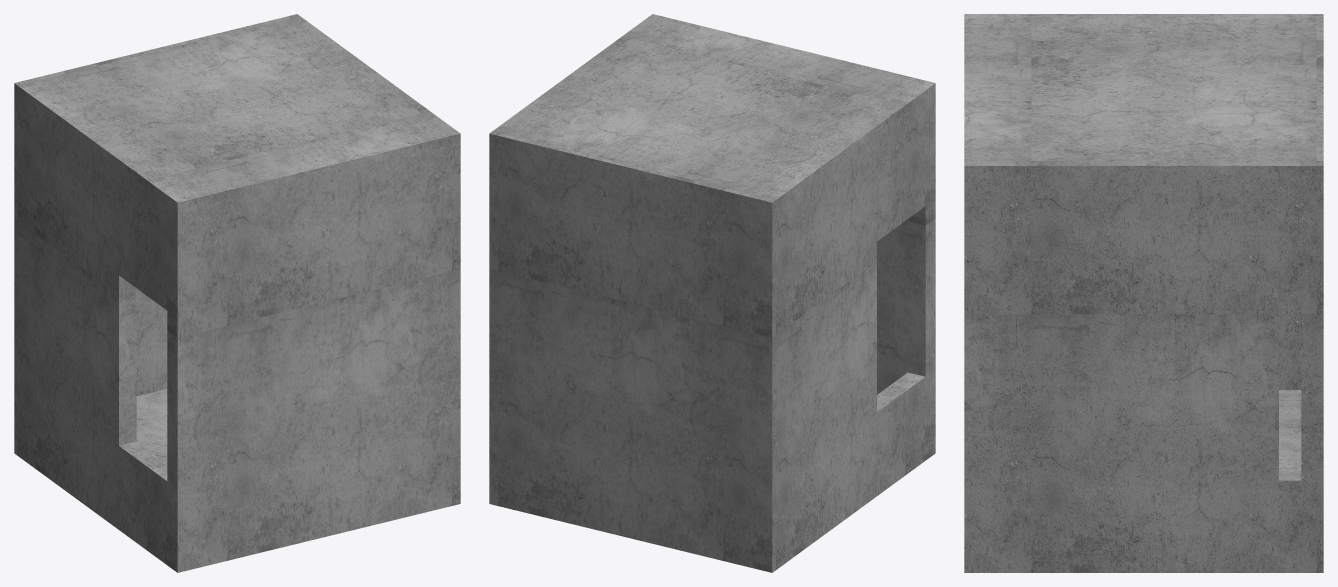
File: 2026 Funny Little Room.fbx
The picture shows the model from 3 angles, left to right: view 1: azimuth 30°, elevation 25°; view 2: azimuth 150°, elevation 25°; view 3: azimuth 270°, elevation 25°; orthographic projection. The views are drawn at different scales.
Visible parts, largest first — view 1: Funny Little Room; view 2: Funny Little Room; view 3: Funny Little Room.
Boxes of the visible parts, left/top/right/bottom form: Funny Little Room: left=14, top=14, right=460, bottom=572; Funny Little Room: left=489, top=14, right=935, bottom=572; Funny Little Room: left=964, top=14, right=1323, bottom=572.
Size of the model in its own units: 96 by 96 by 120.
1 material, 1 textured.
